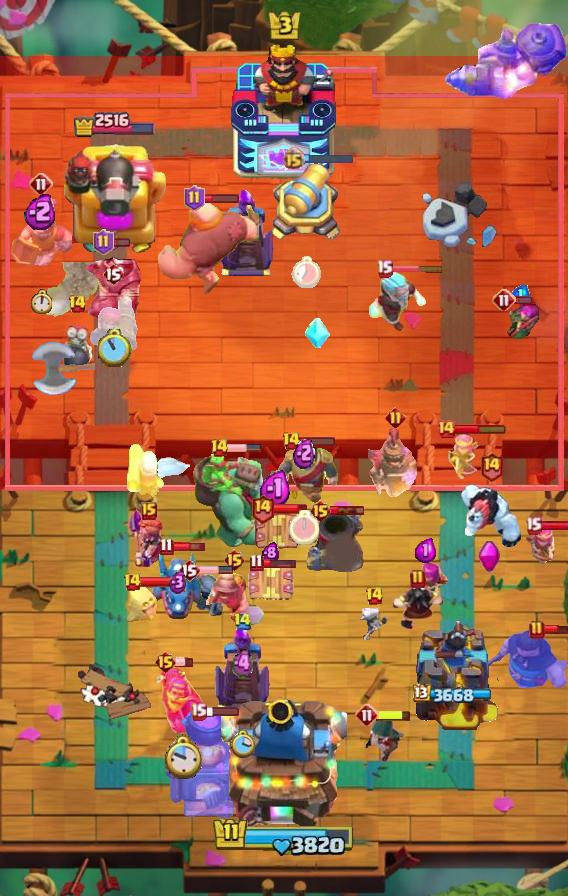archer: (401, 563, 449, 603), (502, 300, 540, 348), (525, 523, 561, 571), (445, 433, 479, 483)
axe: (29, 341, 95, 397)
bandit: (362, 711, 406, 765)
bar: (454, 423, 507, 435), (303, 152, 354, 164), (390, 264, 444, 273), (376, 709, 412, 722), (171, 540, 206, 553), (204, 705, 240, 717), (139, 576, 175, 588), (272, 503, 308, 515), (262, 557, 297, 569), (299, 436, 336, 447), (203, 193, 240, 204), (330, 505, 365, 516), (198, 565, 234, 575), (226, 443, 262, 453), (540, 520, 568, 531), (542, 624, 568, 635), (175, 657, 194, 668), (112, 237, 131, 248), (514, 295, 533, 305)
bar-level: (250, 493, 275, 524), (479, 451, 504, 482), (355, 703, 379, 727), (492, 288, 516, 312), (29, 172, 53, 196), (154, 650, 177, 674), (223, 548, 246, 572), (309, 499, 332, 523), (93, 229, 114, 255), (184, 185, 205, 211), (282, 147, 305, 170), (178, 558, 200, 582), (102, 262, 124, 286), (385, 407, 406, 428), (436, 419, 456, 439), (365, 586, 384, 606), (123, 572, 142, 592), (210, 438, 229, 458), (282, 431, 301, 451), (68, 294, 87, 314), (233, 612, 252, 631), (190, 702, 207, 721), (525, 516, 542, 535), (376, 259, 393, 278), (529, 620, 545, 640), (410, 569, 426, 589), (141, 502, 157, 520), (249, 553, 264, 572), (159, 537, 174, 556)
bomber: (59, 315, 95, 373)
cannoneer-tower: (60, 138, 168, 256)
clock: (163, 734, 202, 781), (98, 329, 132, 367), (291, 255, 323, 288), (289, 510, 319, 545), (230, 729, 255, 759), (30, 289, 52, 314)
dirt: (41, 262, 104, 323)
electro-dragon: (150, 547, 206, 621)
electro-wizard: (391, 580, 445, 632)
elixir: (259, 470, 293, 508), (24, 192, 58, 230), (293, 437, 315, 469), (232, 648, 253, 680), (415, 538, 436, 563), (169, 570, 187, 594), (262, 542, 279, 563), (512, 285, 530, 304)
evolution-symbol: (477, 540, 501, 575)
firecracker: (125, 441, 167, 499)
firecracker-evolution: (85, 288, 141, 350)
heal-spirit: (125, 582, 161, 624)
ice-spirit-evolution-symbol: (305, 318, 331, 350)
ice-wizard: (366, 267, 428, 333)
king-tower: (221, 690, 347, 826), (230, 41, 338, 181)
king-tower-bar: (212, 816, 356, 858)
knight: (270, 446, 339, 503)
knight-evolution: (157, 665, 208, 734)
miner: (202, 563, 266, 629)
mini-pekka: (184, 572, 228, 620)
mortar: (304, 507, 366, 575)
queen-tower: (405, 617, 501, 731)
royal-recruit: (10, 199, 72, 275), (368, 427, 423, 501)
skeleton: (359, 608, 390, 642)
tesla: (251, 509, 301, 555), (245, 563, 295, 603)
tower-bar: (72, 110, 156, 138), (413, 684, 494, 705)
valkyrie-evolution: (128, 509, 170, 573)
